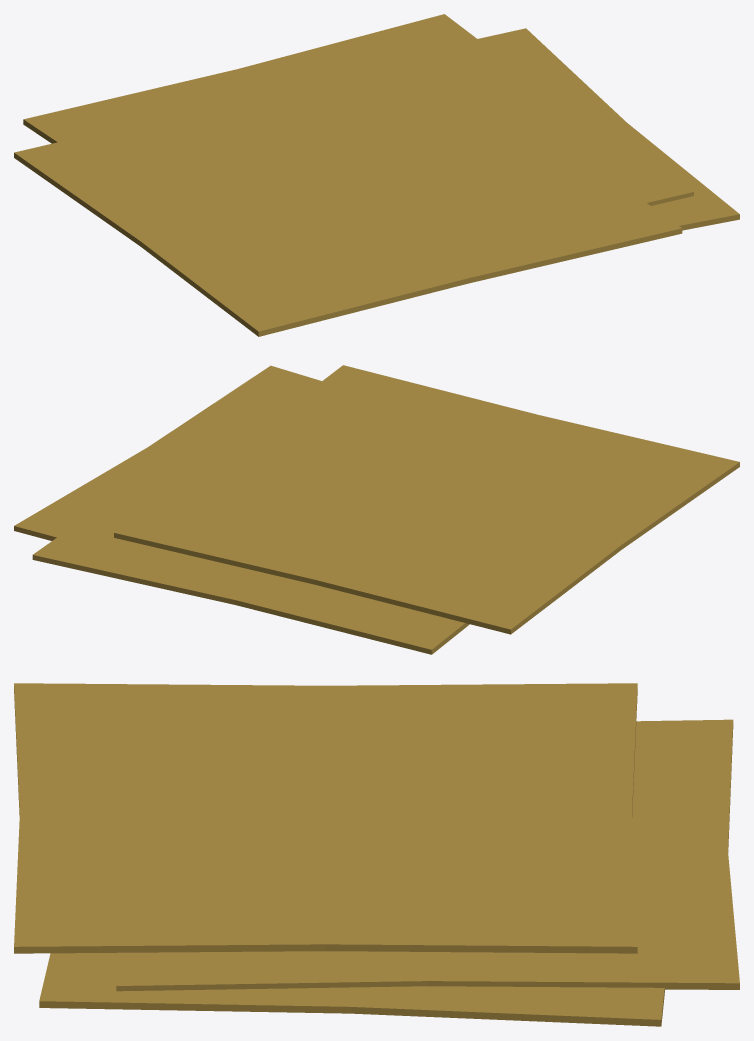
Rendered from cheese-singles-1baedb91e8.glb.
3 renders of one model, top to bottom at view 1: azimuth 30°, elevation 25°; view 2: azimuth 150°, elevation 25°; view 3: azimuth 270°, elevation 25°, orthographic. The views are drawn at different scales.
Visible parts, largest first — view 1: Cheese_Singles.obj; view 2: Cheese_Singles.obj; view 3: Cheese_Singles.obj.
Part boxes in pixels (left/top/right/bottom): Cheese_Singles.obj: left=14, top=14, right=739, bottom=336; Cheese_Singles.obj: left=14, top=365, right=739, bottom=654; Cheese_Singles.obj: left=14, top=683, right=739, bottom=1026.
Size of the model in its own units: 1.03 by 0.0284 by 0.9751.
